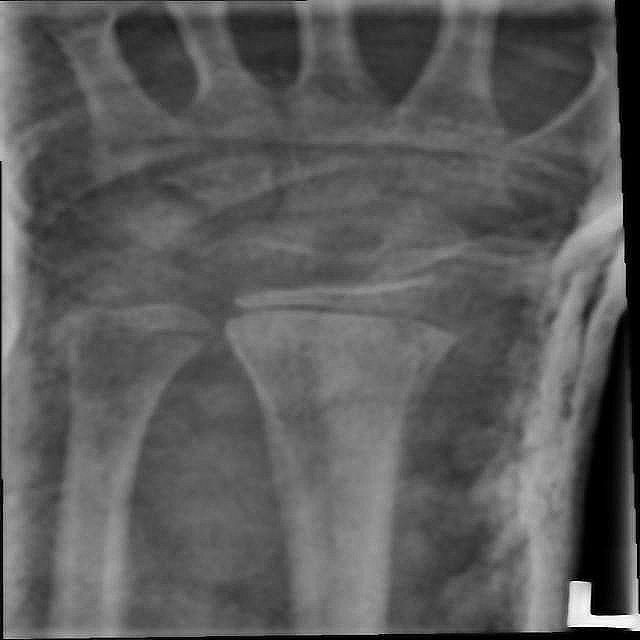bone: (220, 304, 460, 380), (68, 276, 154, 327)
